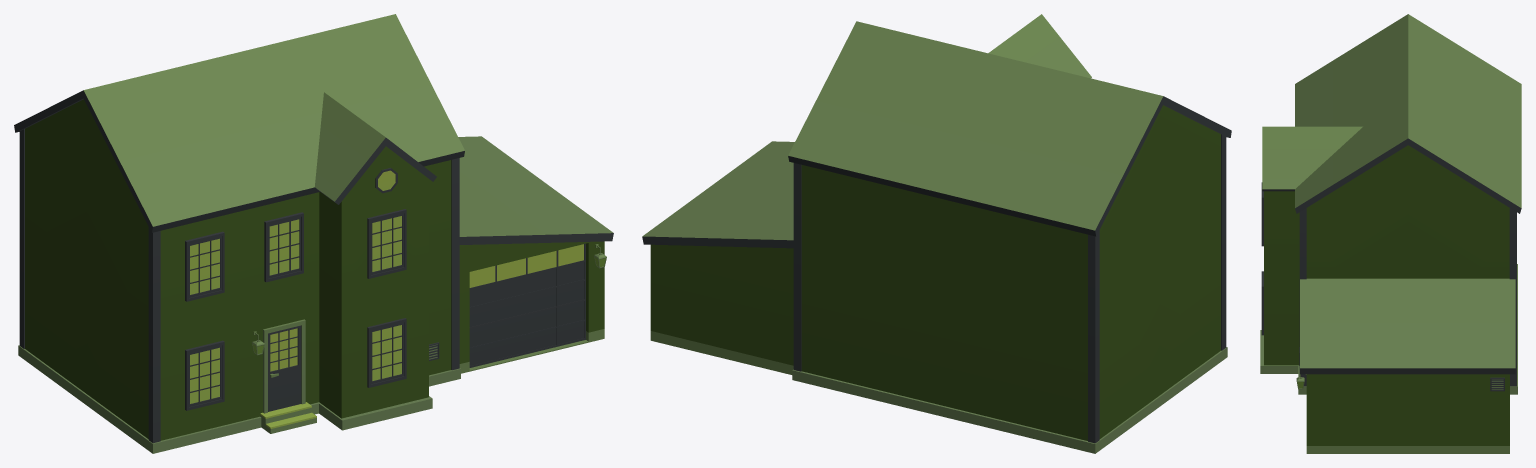
Rendered from SuburbHouse_07.fbx.
The picture shows the model from 3 angles, left to right: view 1: azimuth 30°, elevation 25°; view 2: azimuth 150°, elevation 25°; view 3: azimuth 270°, elevation 25°; orthographic projection. The views are drawn at different scales.
Visible parts, largest first — view 1: SuburbHouse_07; view 2: SuburbHouse_07; view 3: SuburbHouse_07.
Part boxes in pixels (bbox=[...]): SuburbHouse_07: bbox=[14, 14, 613, 453]; SuburbHouse_07: bbox=[642, 14, 1231, 453]; SuburbHouse_07: bbox=[1260, 14, 1521, 453].
Size of the model in its own units: 12.18 by 7.9 by 7.28.
